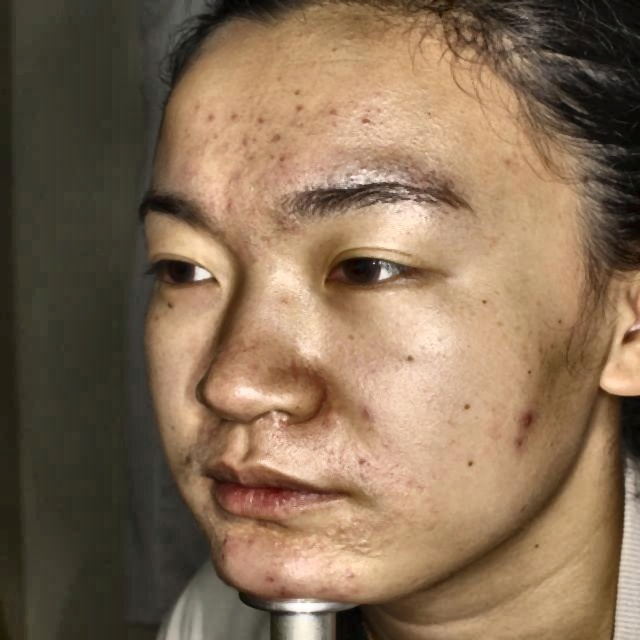pustule: (506, 432, 538, 465), (254, 567, 290, 596), (334, 566, 370, 593), (322, 99, 350, 126), (519, 401, 545, 428), (283, 99, 303, 120)
